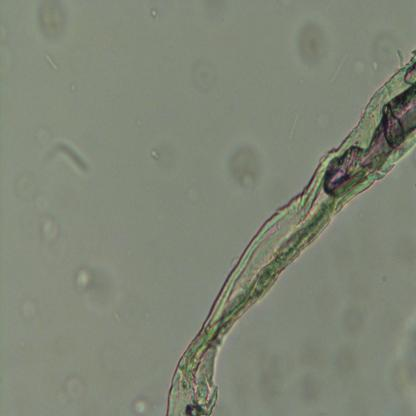Background material: (252, 335, 371, 406), (392, 307, 416, 401), (76, 264, 118, 310), (42, 133, 90, 173), (231, 144, 266, 191), (370, 25, 404, 71), (298, 25, 330, 66), (182, 58, 218, 94), (39, 1, 69, 43), (57, 376, 86, 410), (18, 293, 44, 327), (38, 212, 62, 248), (13, 169, 39, 198), (181, 181, 203, 211), (130, 392, 151, 415), (151, 150, 163, 162), (151, 9, 158, 20)
Cotton: (164, 48, 416, 414)
Glass filter fibre: (330, 47, 352, 84), (287, 110, 300, 145), (46, 53, 60, 72)
